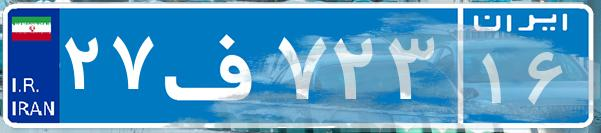1: (475, 38, 525, 113)
2: (330, 28, 385, 110), (57, 26, 110, 107)
3: (385, 28, 445, 110)
6: (525, 38, 570, 115)
7: (273, 28, 330, 110), (110, 28, 158, 105)
ف: (158, 15, 273, 115)
